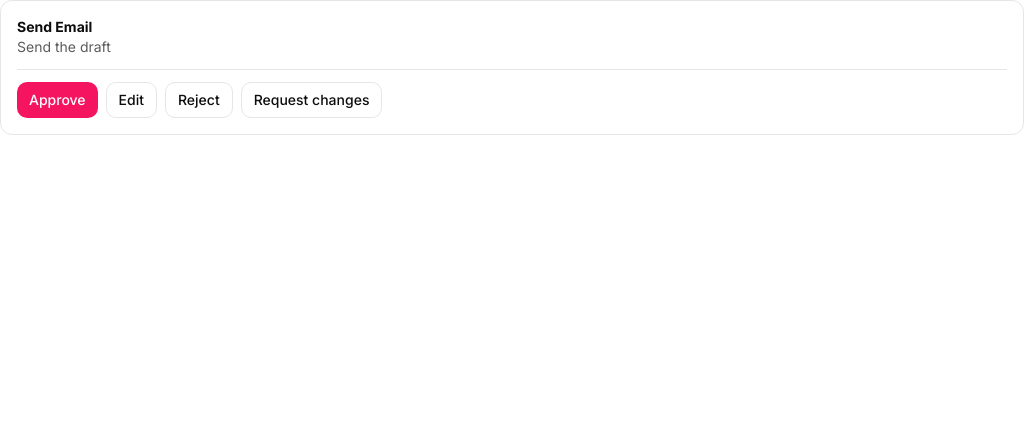
Scenario: ApprovalCard › renders multiline fields and server-held secrets without their values
What coordinates should you click on to do the following:
click the button "Edit"
I would click on:
 (131, 100)
Its box is [106,82,157,118].
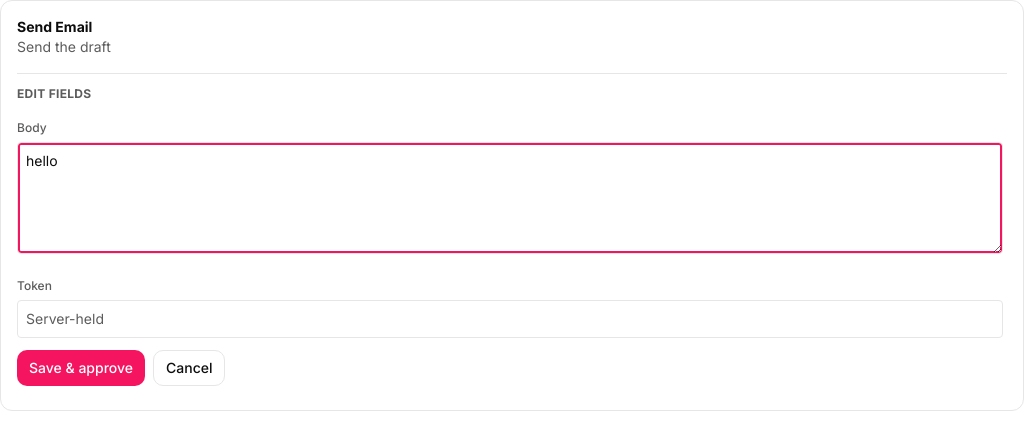
Now the text box labelled "Body" holds "hello", box [17,142,1003,254]
Now the field labelled "Token" is disabled, box [17,300,1003,338]
Now the field labelled "Token" holds "Server-held", box [17,300,1003,338]
